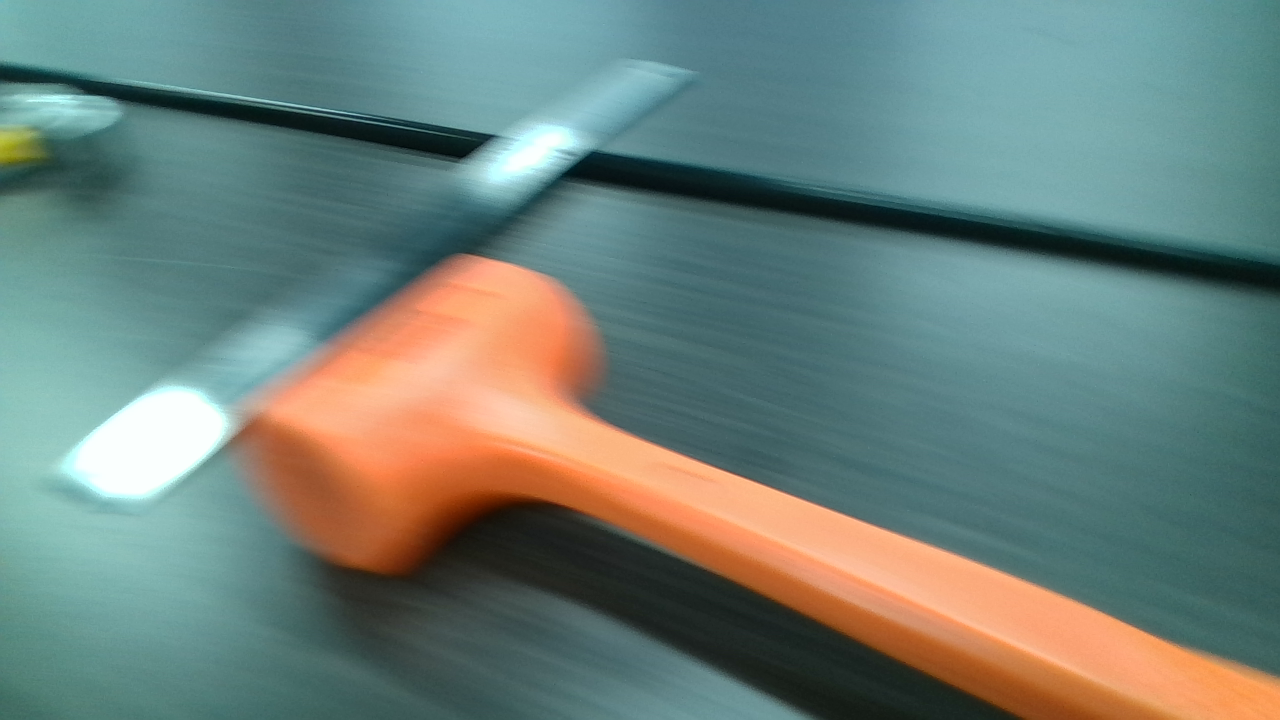Orange Hammer: (256, 253, 1280, 718)
